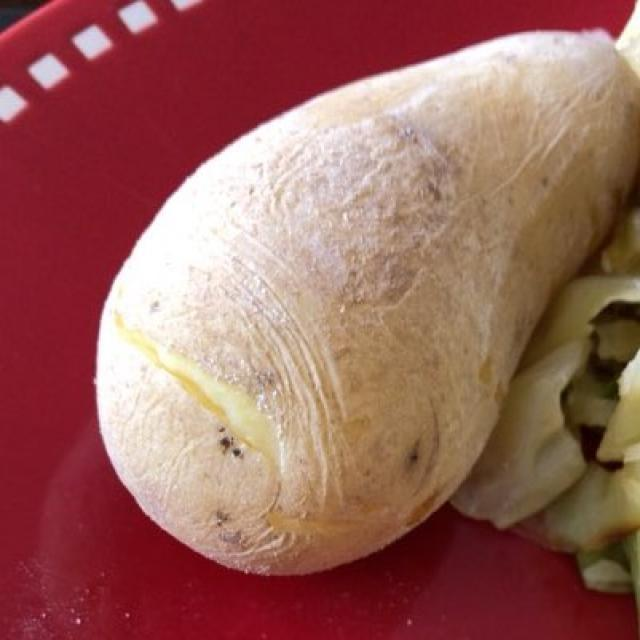potatoes: (95, 31, 623, 562)
